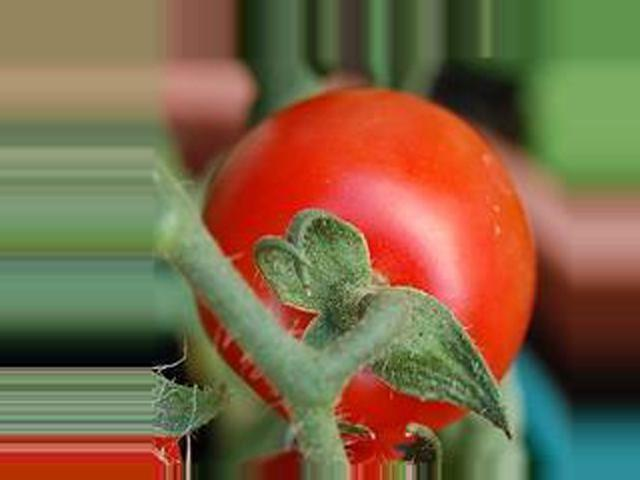tomato: (192, 89, 536, 457)
